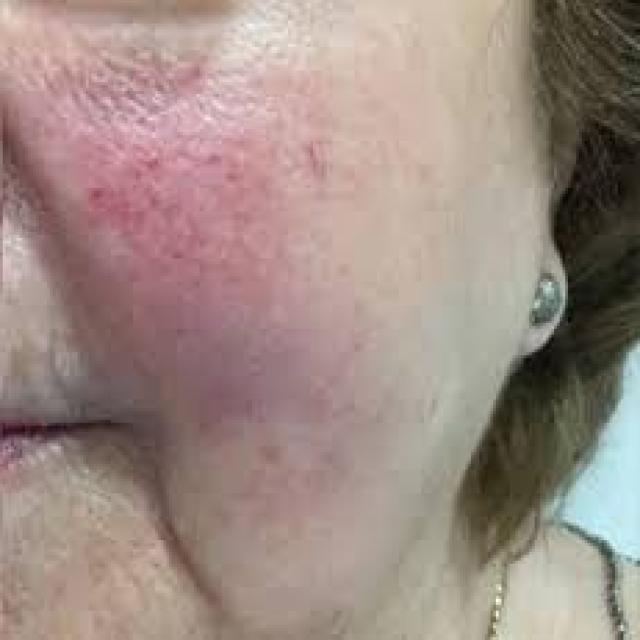Rosacea: (88, 131, 346, 535)
